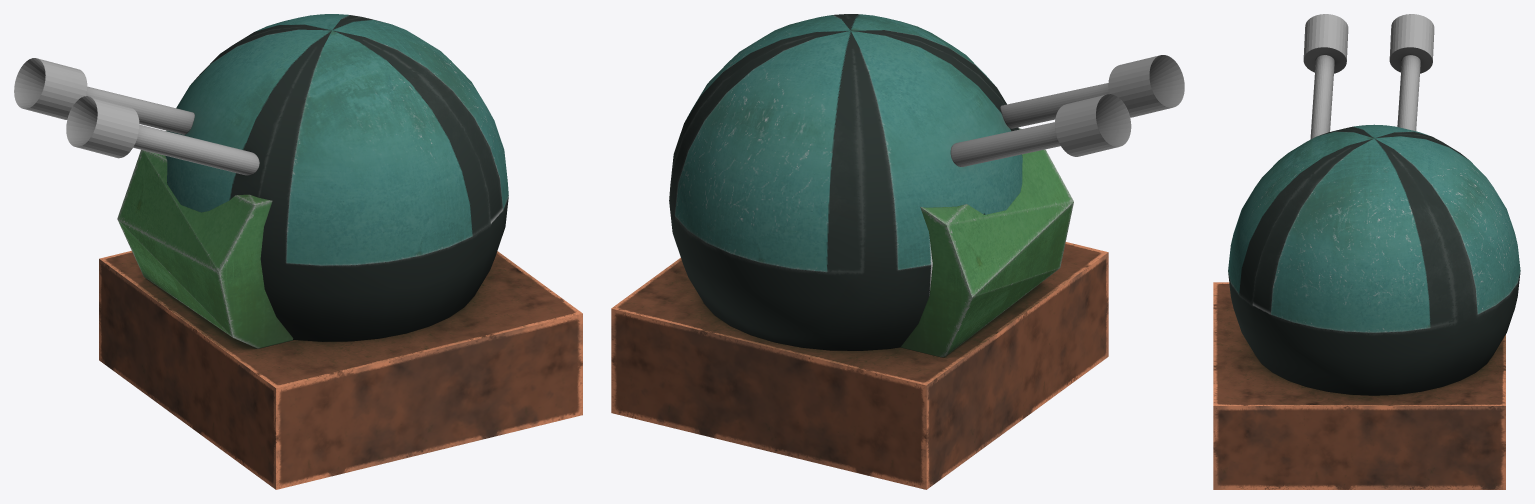
Rendered from Turrent Textured.fbx.
The picture shows the model from 3 angles, left to right: view 1: azimuth 30°, elevation 25°; view 2: azimuth 150°, elevation 25°; view 3: azimuth 270°, elevation 25°; orthographic projection. The views are drawn at different scales.
Parts seen in each view (by area): view 1: polySurface13; view 2: polySurface13; view 3: polySurface13.
Part boxes in pixels (x1,y1,x2,y2): polySurface13: (14,14,582,489); polySurface13: (611,14,1184,489); polySurface13: (1213,14,1520,489).
Bounding box in the file's own units: 2.88 × 2.31 × 2.1.
